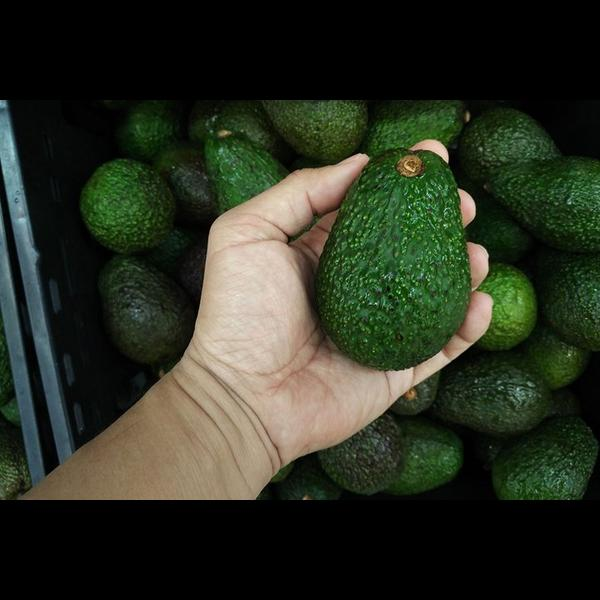unripe: (315, 148, 471, 372), (481, 155, 600, 255), (97, 253, 192, 365), (432, 354, 553, 434), (78, 157, 176, 255), (492, 415, 600, 500), (204, 128, 293, 215), (260, 100, 370, 164), (363, 100, 471, 158)
